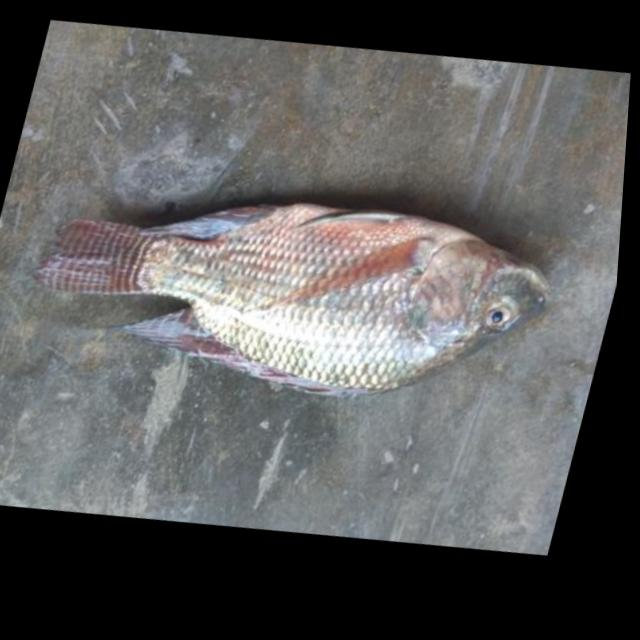Tilapia: (10, 124, 569, 465)
